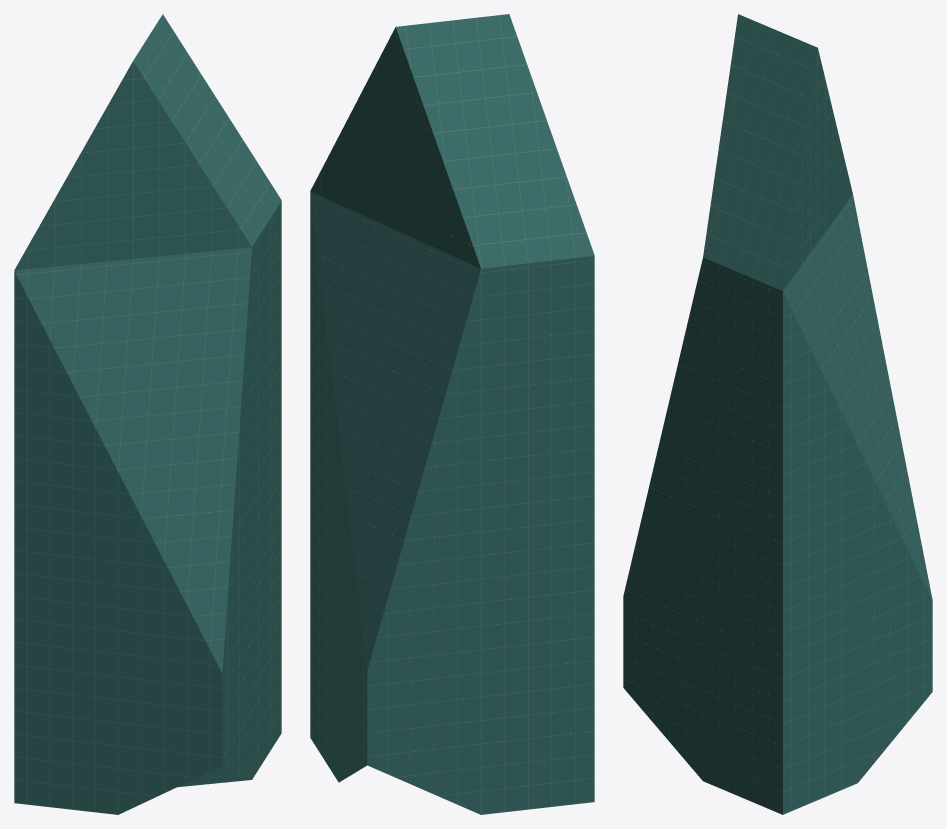
The model's file is fountain-place-far.glb.
3 renders of one model, left to right at view 1: azimuth 30°, elevation 25°; view 2: azimuth 150°, elevation 25°; view 3: azimuth 270°, elevation 25°, orthographic. The views are drawn at different scales.
Visible parts, largest first — view 1: fountain-place-0-glass, fountain-place-0-facet, fountain-place-0-mullion, fountain-place-0-office; view 2: fountain-place-0-glass, fountain-place-0-facet, fountain-place-0-mullion, fountain-place-0-office; view 3: fountain-place-0-glass, fountain-place-0-facet, fountain-place-0-mullion, fountain-place-0-office.
Boxes of the visible parts, x1,y1,x2,y2 form: fountain-place-0-glass: [14, 61, 281, 814]; fountain-place-0-facet: [14, 14, 281, 786]; fountain-place-0-mullion: [14, 20, 281, 814]; fountain-place-0-office: [14, 259, 281, 788]; fountain-place-0-glass: [310, 27, 594, 814]; fountain-place-0-facet: [310, 14, 594, 669]; fountain-place-0-mullion: [310, 15, 594, 814]; fountain-place-0-office: [310, 196, 594, 788]; fountain-place-0-glass: [623, 49, 932, 814]; fountain-place-0-facet: [703, 14, 932, 599]; fountain-place-0-mullion: [623, 17, 932, 814]; fountain-place-0-office: [623, 282, 906, 789].
Bounding box in the file's own units: 85.7 × 220 × 85.7.
